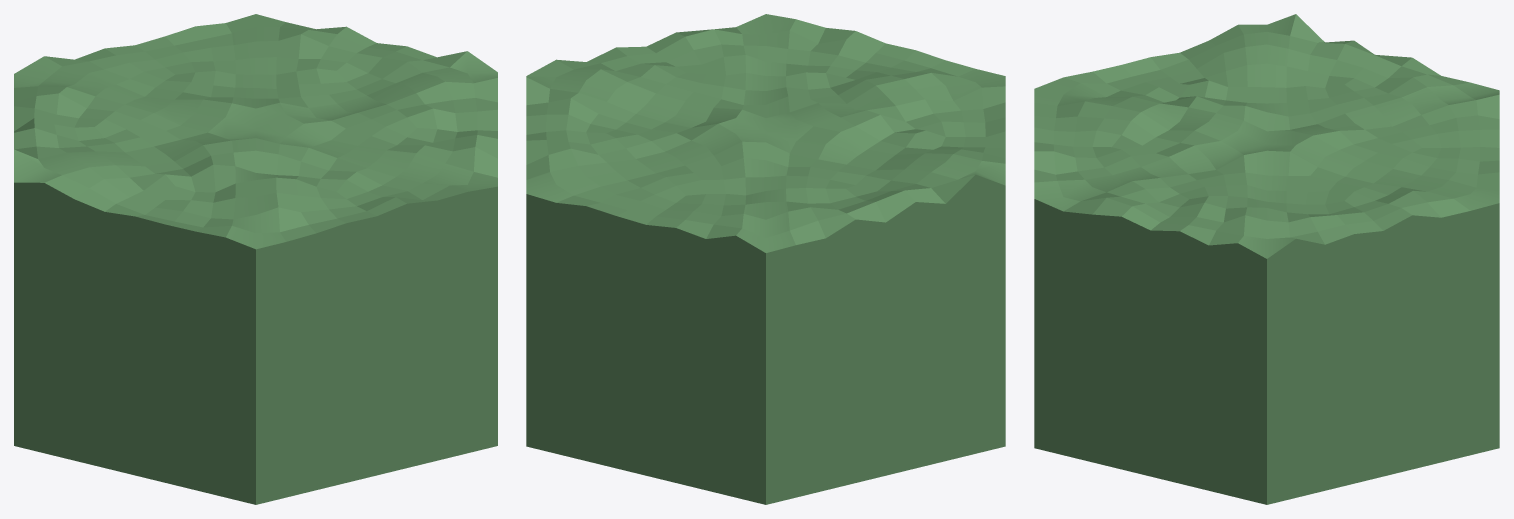
Rendered from ground.fbx.
3 views of the same model, side by side, from view 1: azimuth 30°, elevation 25°; view 2: azimuth 150°, elevation 25°; view 3: azimuth 270°, elevation 25° (orthographic). The views are drawn at different scales.
Visible parts, largest first — view 1: Grass; view 2: Grass; view 3: Grass.
Boxes of the visible parts, x1,y1,x2,y2 form: Grass: [14, 14, 497, 504]; Grass: [526, 14, 1005, 504]; Grass: [1034, 14, 1499, 504].
Size of the model in its own units: 2 by 1.11 by 1.73.
